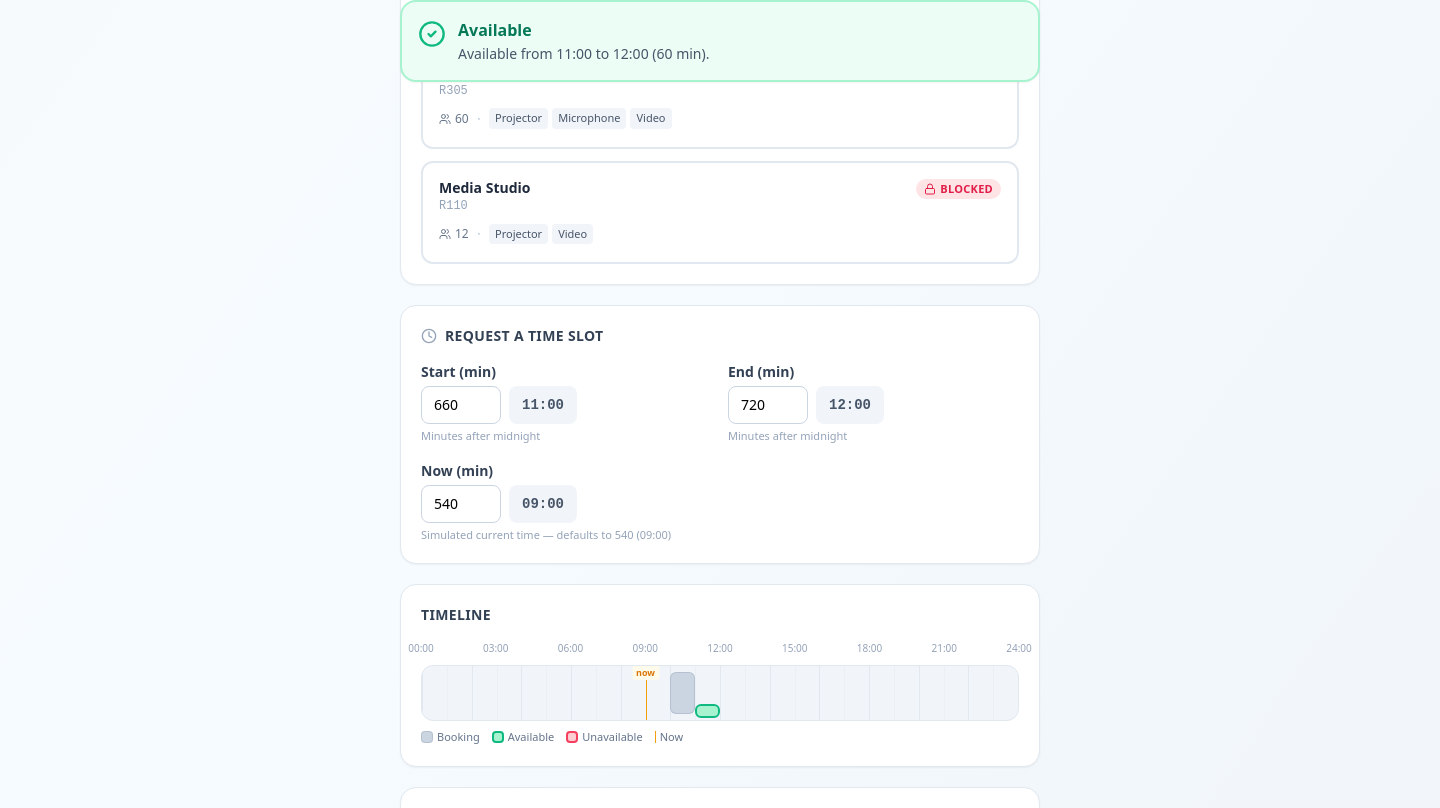
App UI › UI1 F5: R214 unavailable at 600-630, R101 available
Later steps or results of the test are not shown.
(page scrolled)
# Set Start to 600
Replace the text in the number field labelled "Start (min)" with "600": point(461, 405) [421,386,501,424]
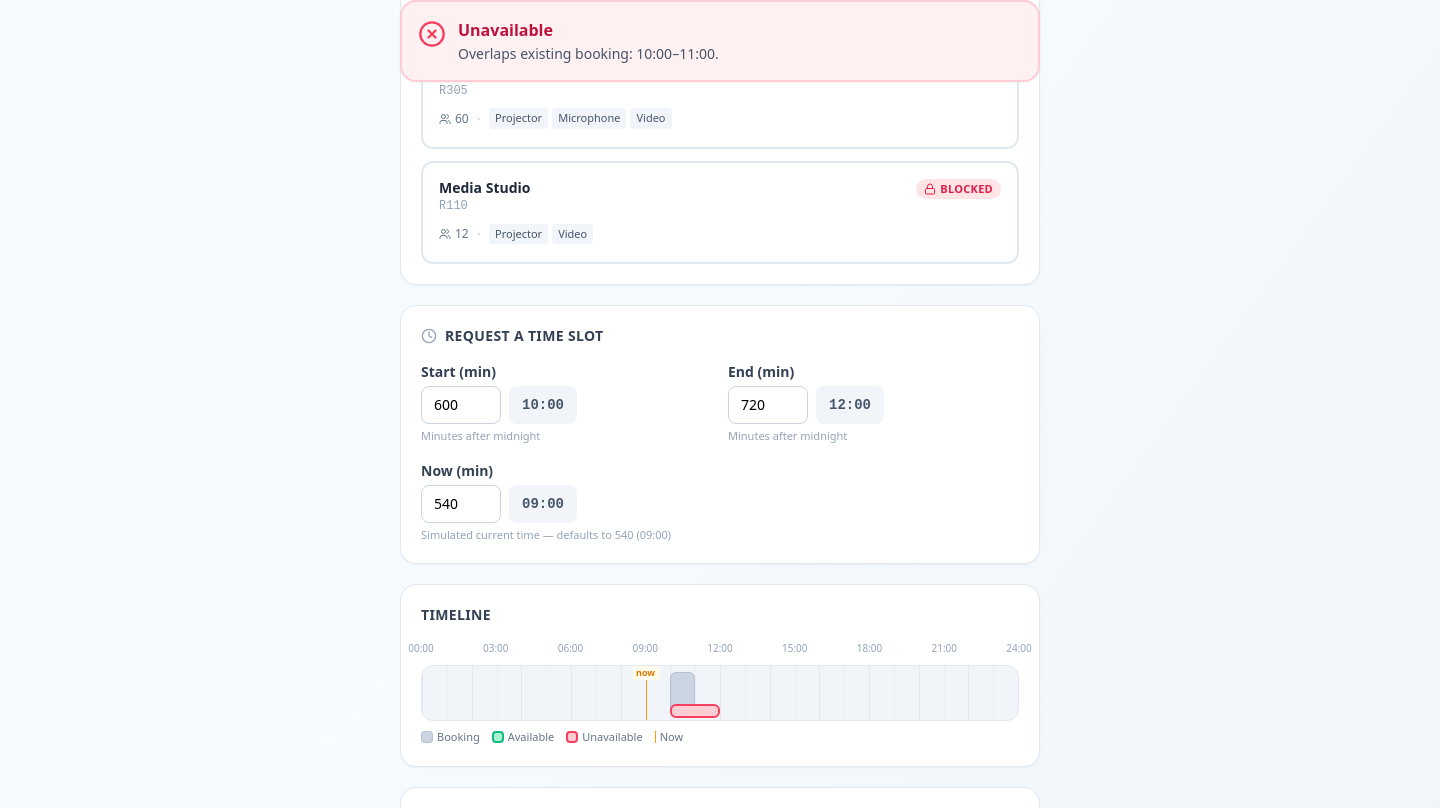
# Set End to 630
Replace the text in the number field labelled "End (min)" with "630": point(768, 405) [728,386,808,424]
(page scrolled)
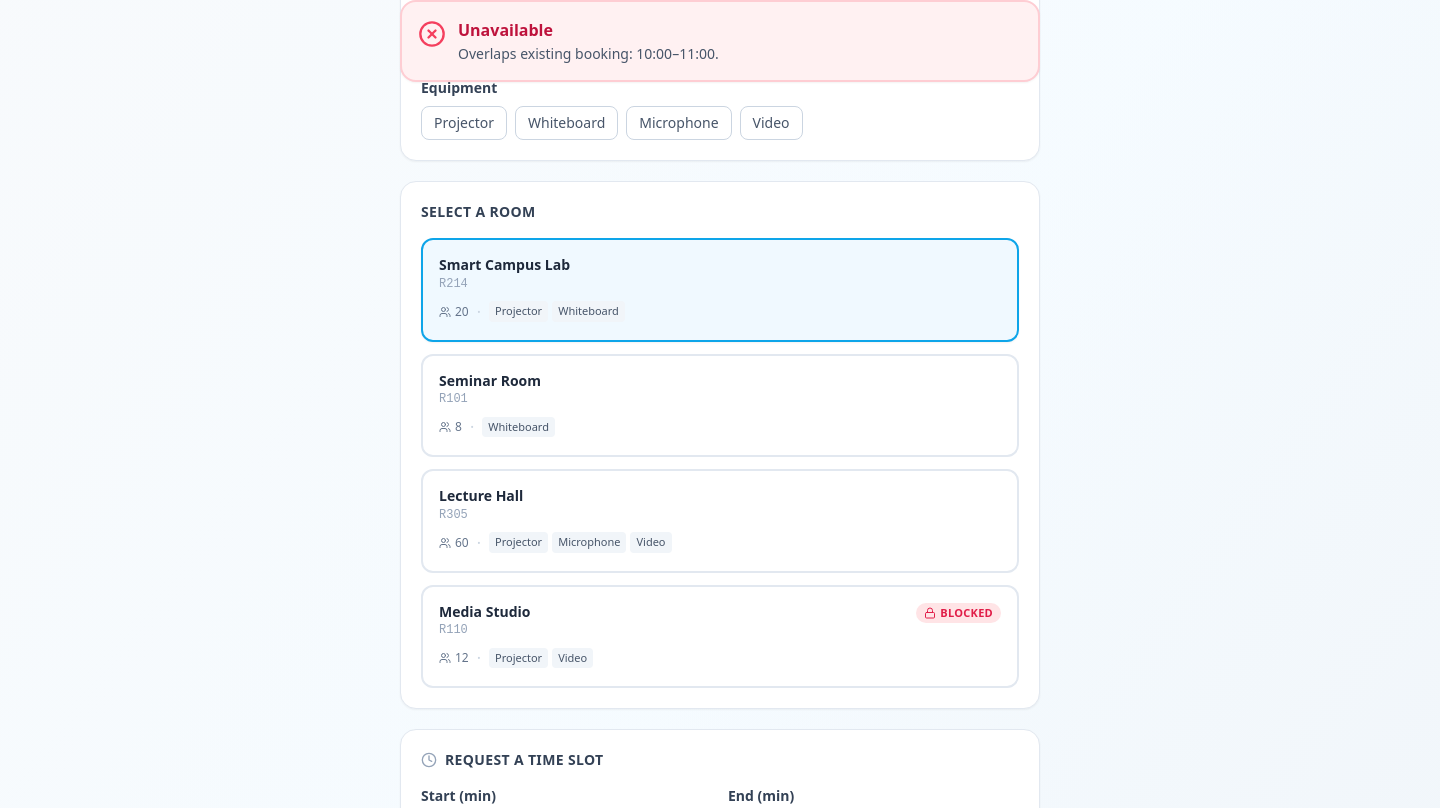
Result: the text "Unavailable" is shown at [458,19,553,41]
